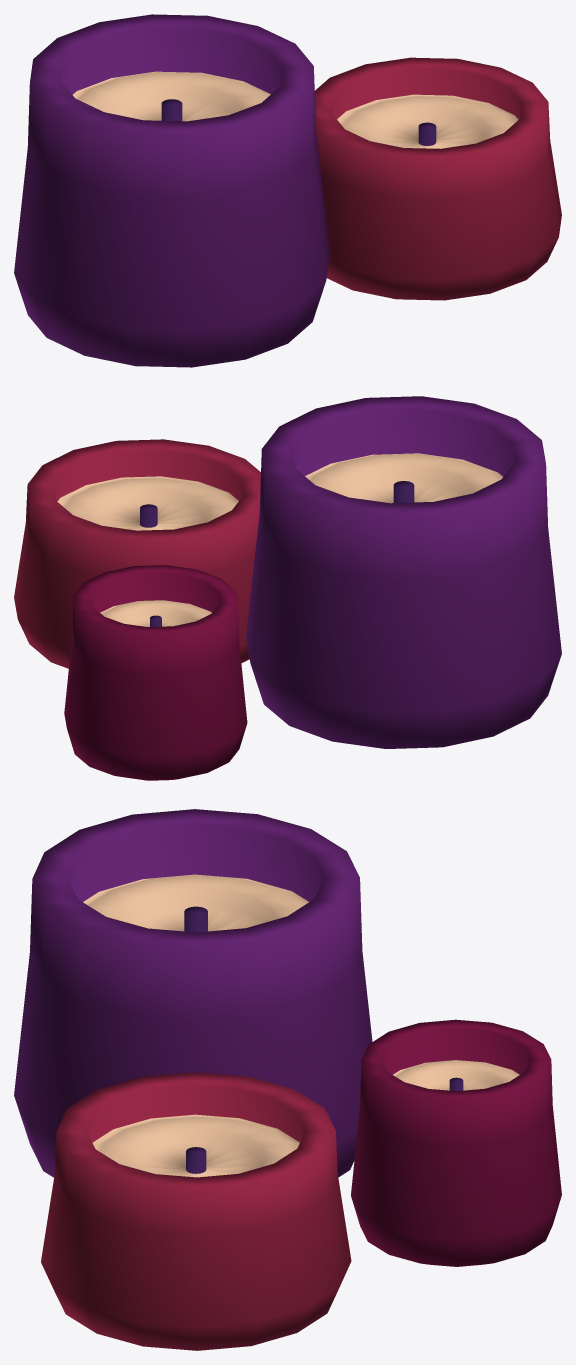
The model's file is TableDecor_01_CC.glb.
3 views of the same model, one above another, from view 1: azimuth 30°, elevation 25°; view 2: azimuth 150°, elevation 25°; view 3: azimuth 270°, elevation 25° (orthographic). The views are drawn at different scales.
Visible parts, largest first — view 1: TableDecor_01_CC; view 2: TableDecor_01_CC; view 3: TableDecor_01_CC.
Boxes of the visible parts, box(x1,y1,x2,y2) form: TableDecor_01_CC: box(14, 14, 561, 367); TableDecor_01_CC: box(14, 396, 561, 780); TableDecor_01_CC: box(14, 809, 561, 1350).
Size of the model in its own units: 0.1432 by 0.0669 by 0.1164.
Materials: 1 (1 with a texture image).
